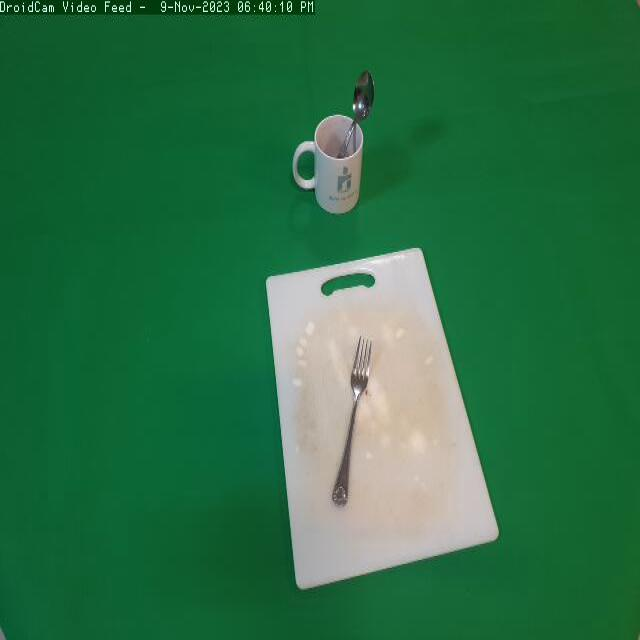cup: (292, 109, 374, 232)
cutting board: (253, 238, 502, 608)
fork: (328, 324, 388, 516)
spoon: (337, 68, 381, 164)
